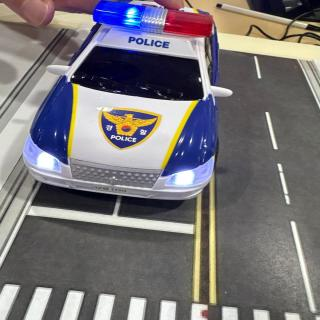Police_car: (24, 1, 232, 199)
